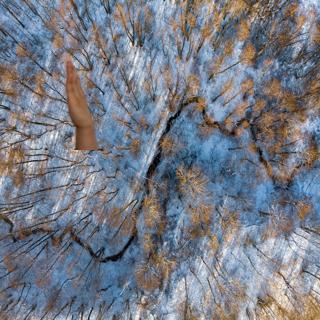RIGHT: (61, 58, 96, 130)
